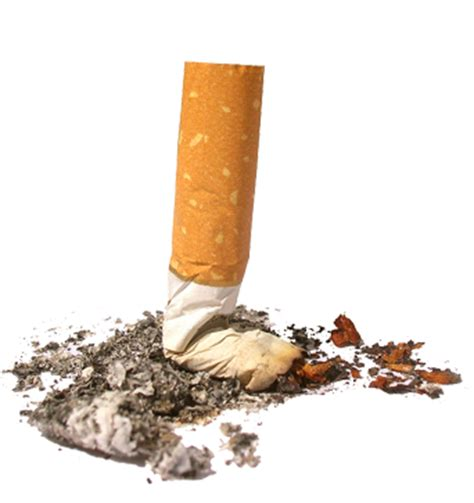cigarette: (156, 62, 324, 392)
